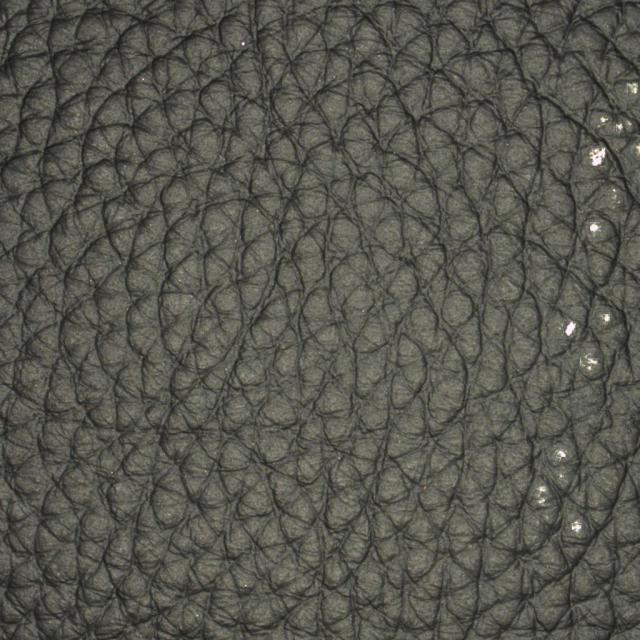Rotten surface: (519, 292, 623, 556), (550, 44, 627, 254)
